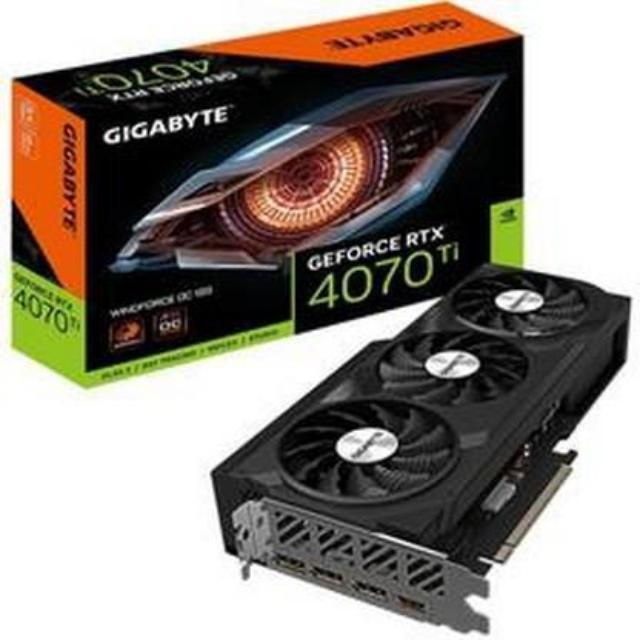GPU: (205, 263, 640, 637)
